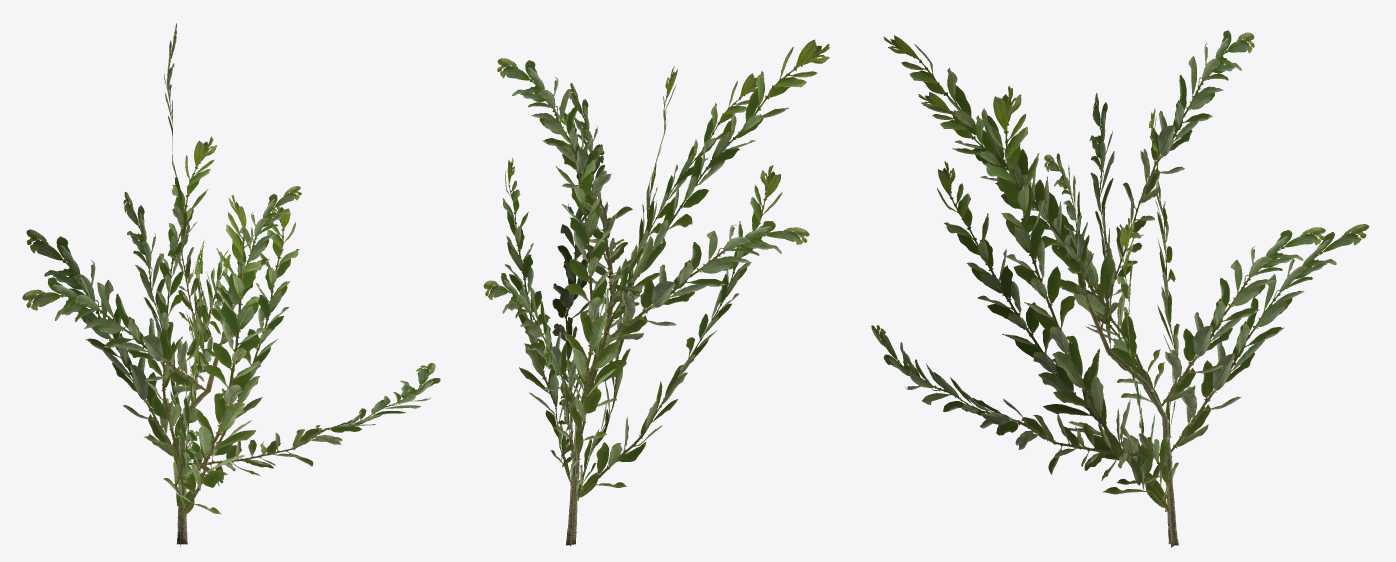
The model's file is grey_willow_01_n.FBX.
3 renders of one model, left to right at view 1: azimuth 30°, elevation 25°; view 2: azimuth 150°, elevation 25°; view 3: azimuth 270°, elevation 25°, orthographic. The views are drawn at different scales.
Visible parts, largest first — view 1: grey_willow_01_LOD0; view 2: grey_willow_01_LOD0; view 3: grey_willow_01_LOD0.
Part boxes in pixels (x1,y1,x2,y2): grey_willow_01_LOD0: (22,23,440,546); grey_willow_01_LOD0: (483,39,829,545); grey_willow_01_LOD0: (871,30,1369,547).
Size of what is drawn, in the model's own units: 57.05 by 81.55 by 70.55.
